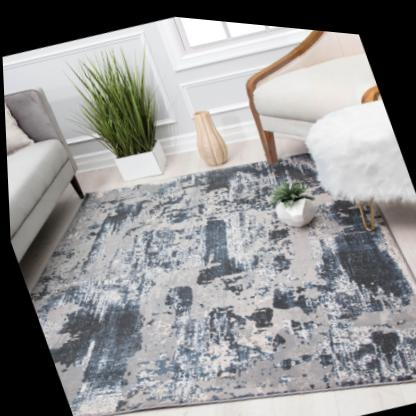Carpet: (27, 137, 416, 416)
